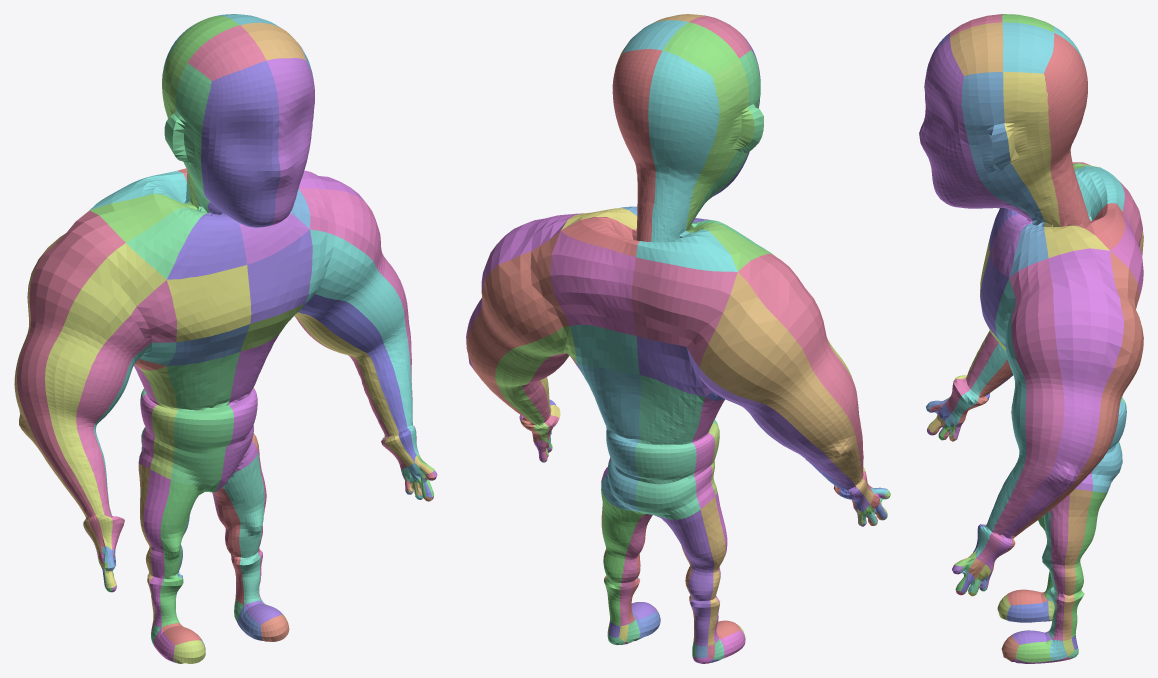
Rendered from 13_bigbuddy_output.obj.
The picture shows the model from 3 angles, left to right: view 1: azimuth 30°, elevation 25°; view 2: azimuth 150°, elevation 25°; view 3: azimuth 270°, elevation 25°; orthographic projection. The views are drawn at different scales.
Bounding box in the file's own units: 0.5845 × 0.9006 × 0.2978.
